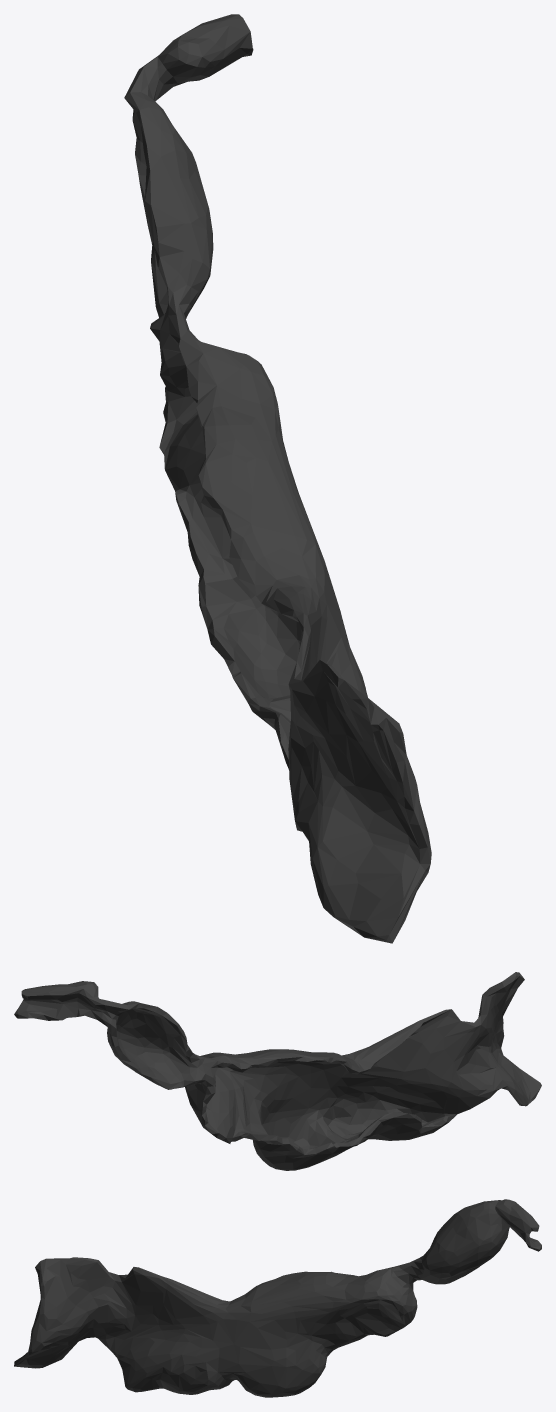
File: abomasum_pylorus.glb
The picture shows the model from 3 angles, top to bottom: view 1: azimuth 30°, elevation 25°; view 2: azimuth 150°, elevation 25°; view 3: azimuth 270°, elevation 25°; orthographic projection. The views are drawn at different scales.
Visible parts, largest first — view 1: abomasum_pylorus; view 2: abomasum_pylorus; view 3: abomasum_pylorus.
Part boxes in pixels (x1,y1,x2,y2): abomasum_pylorus: [124, 14, 431, 943]; abomasum_pylorus: [14, 972, 541, 1170]; abomasum_pylorus: [14, 1199, 541, 1397].
Size of the model in its own units: 0.8608 by 0.99 by 1.97.
1 material, 1 textured.
